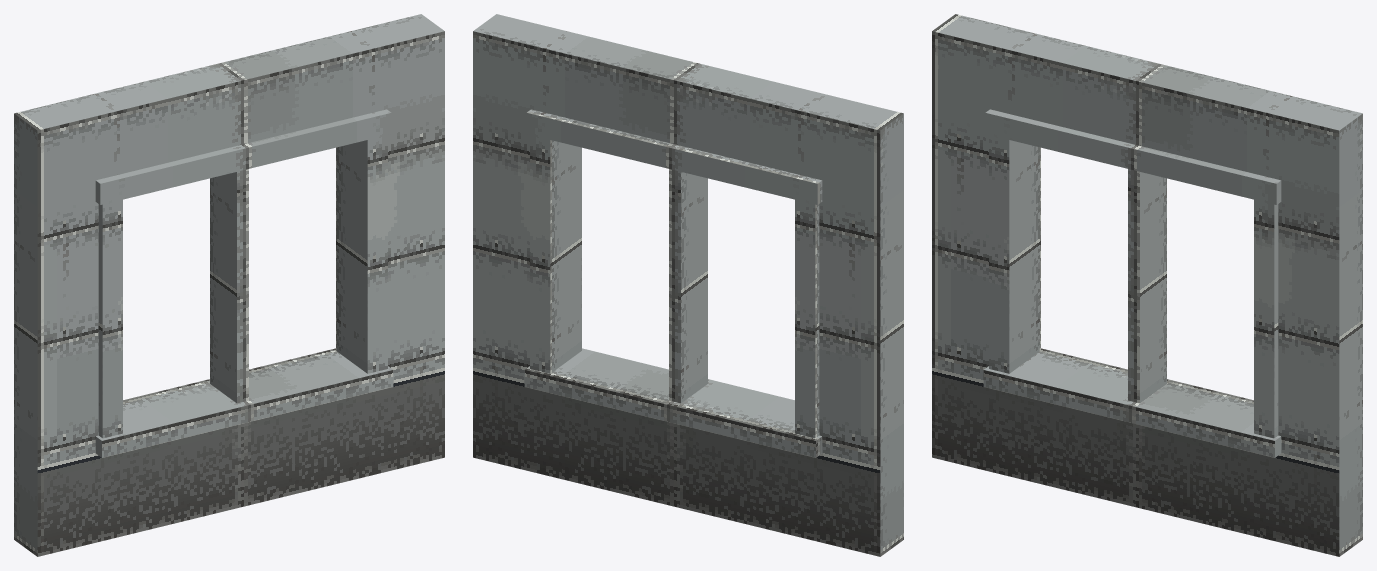
The model's file is arch_window.glb.
3 views of the same model, side by side, from view 1: azimuth 30°, elevation 25°; view 2: azimuth 150°, elevation 25°; view 3: azimuth 330°, elevation 25° (orthographic).
Visible parts, largest first — view 1: arch_window; view 2: arch_window; view 3: arch_window.
Part boxes in pixels (bbox=[...]): arch_window: bbox=[14, 14, 444, 556]; arch_window: bbox=[473, 14, 903, 556]; arch_window: bbox=[932, 14, 1362, 556].
Size of the model in its own units: 4 by 4 by 0.62.
Materials: 1 (1 with a texture image).
